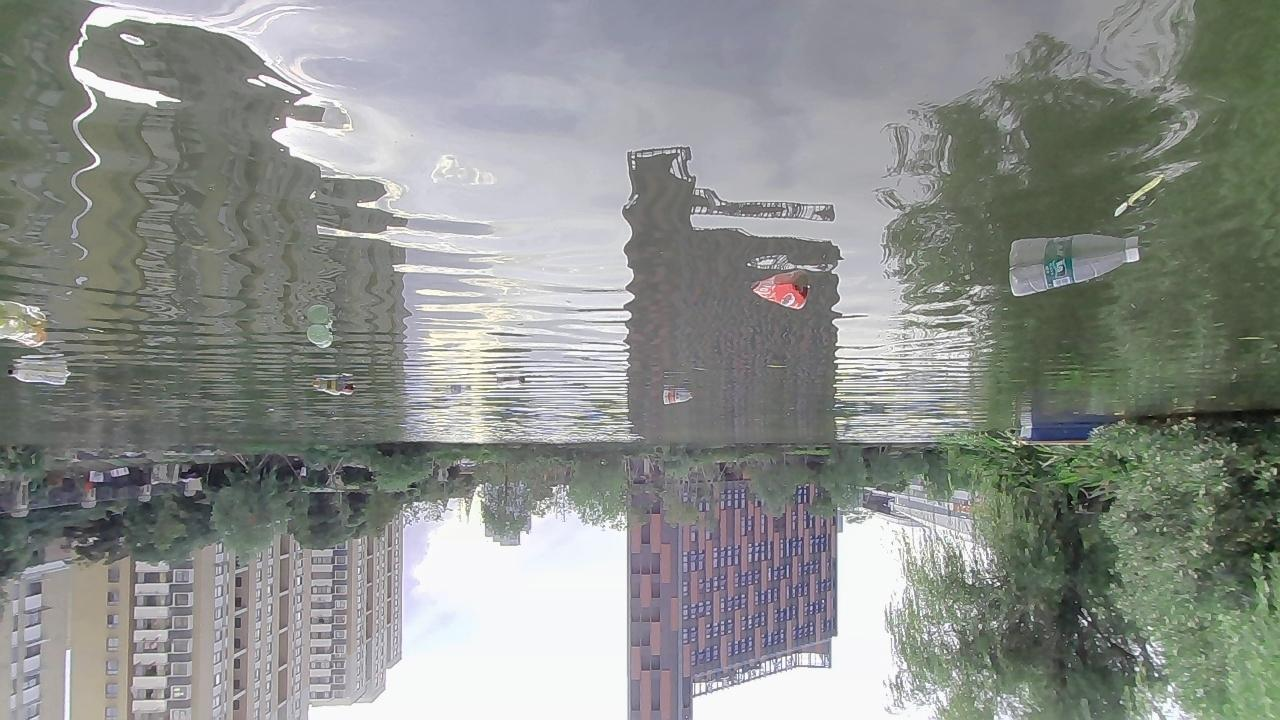Metal: (751, 277, 809, 312), (497, 376, 525, 390)
Plastic: (1007, 246, 1142, 297), (0, 316, 46, 348), (6, 368, 68, 386), (306, 322, 334, 351), (661, 389, 696, 406), (311, 378, 342, 396), (444, 385, 472, 396)
